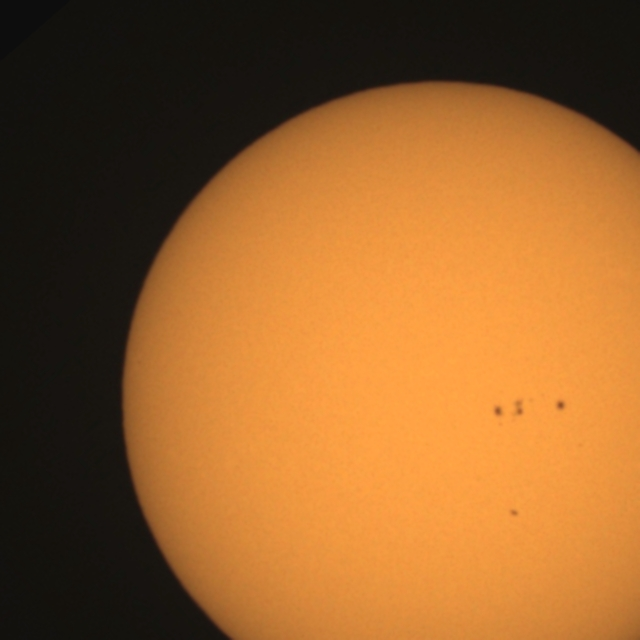sunspot: (491, 398, 526, 427), (554, 398, 568, 413), (508, 507, 520, 519)
